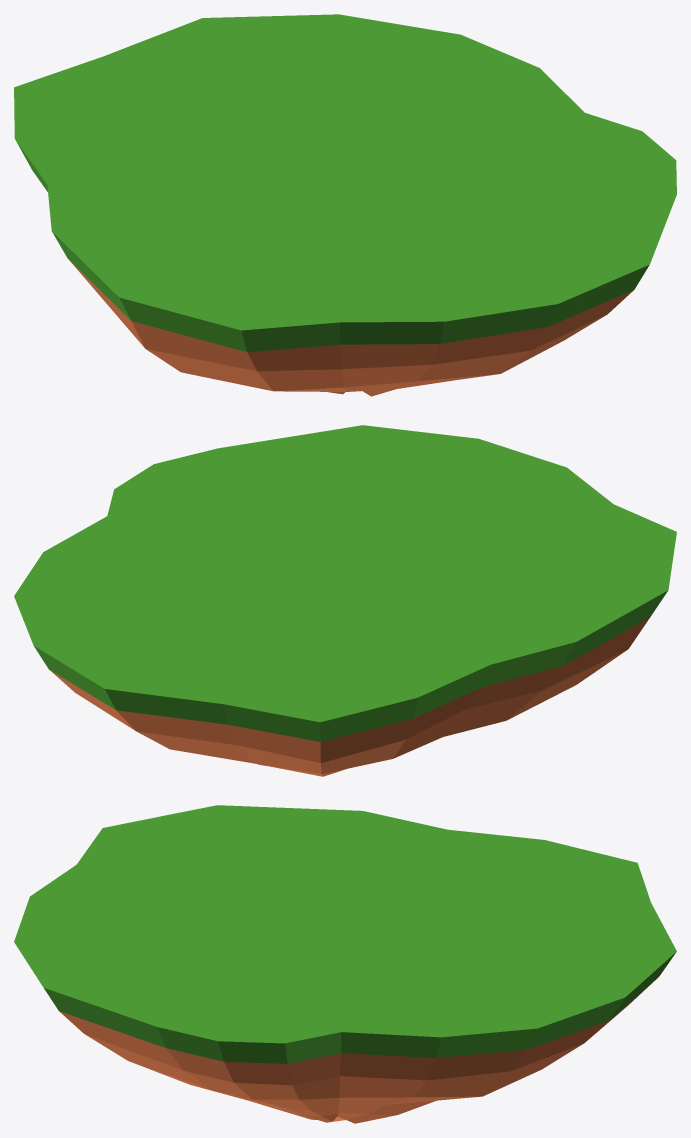
The model's file is Island_for_Texture.fbx.
3 views of the same model, one above another, from view 1: azimuth 30°, elevation 25°; view 2: azimuth 150°, elevation 25°; view 3: azimuth 270°, elevation 25° (orthographic). The views are drawn at different scales.
Parts seen in each view (by area): view 1: Island 3; view 2: Island 3; view 3: Island 3.
Part boxes in pixels (x1=…): Island 3: x1=14, y1=14, x2=676, y2=396; Island 3: x1=14, y1=425, x2=676, y2=776; Island 3: x1=14, y1=805, x2=676, y2=1123.
Bounding box in the file's own units: 2109 × 765 × 2474.
